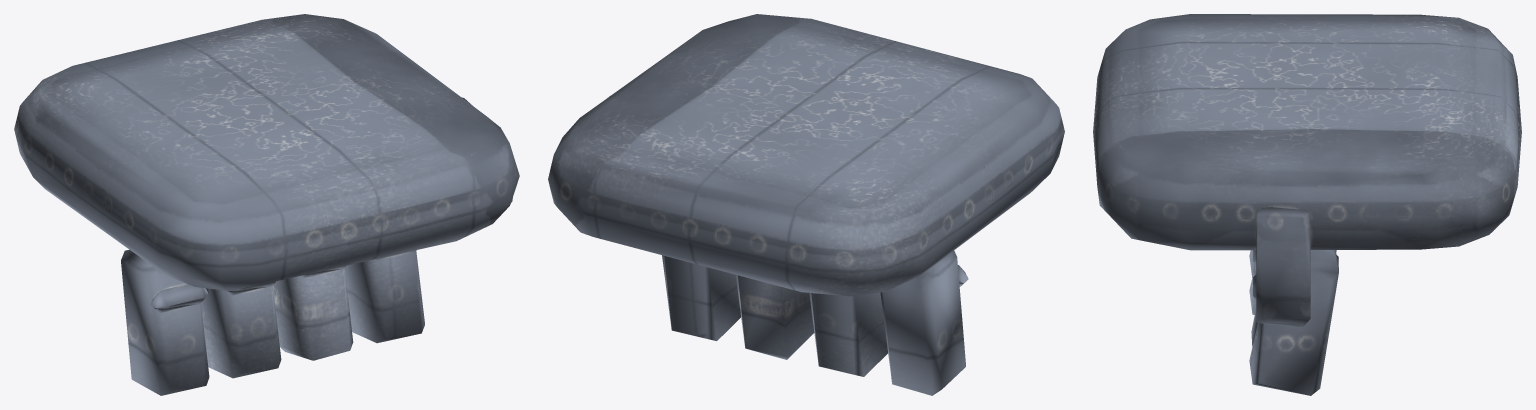
The model's file is MatonImp_BrazoMano.fbx.
3 renders of one model, left to right at view 1: azimuth 30°, elevation 25°; view 2: azimuth 150°, elevation 25°; view 3: azimuth 270°, elevation 25°, orthographic. The views are drawn at different scales.
Parts seen in each view (by area): view 1: MatonImp_BrazoMano; view 2: MatonImp_BrazoMano; view 3: MatonImp_BrazoMano.
Part boxes in pixels (left/top/right/bottom): MatonImp_BrazoMano: left=14, top=14, right=519, bottom=395; MatonImp_BrazoMano: left=548, top=14, right=1064, bottom=395; MatonImp_BrazoMano: left=1093, top=14, right=1521, bottom=395.
Bounding box in the file's own units: 1.39 × 0.8247 × 1.28.
